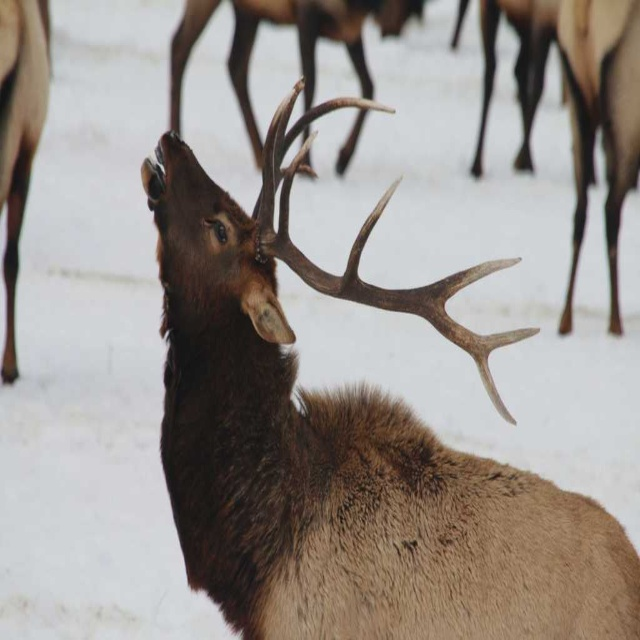Deer: (139, 73, 640, 639), (170, 0, 426, 174), (556, 0, 635, 331), (0, 0, 54, 383), (468, 0, 556, 176)
